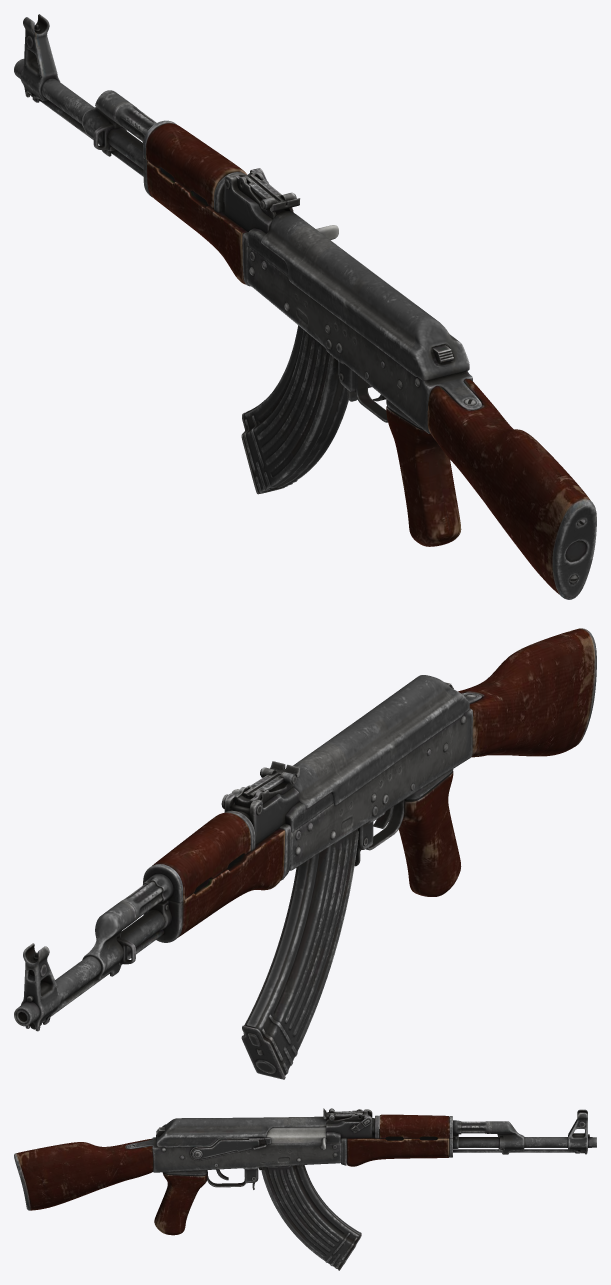
Rendered from ak-47_kalashnikov_c.glb.
3 views of the same model, one above another, from view 1: azimuth 30°, elevation 25°; view 2: azimuth 150°, elevation 25°; view 3: azimuth 270°, elevation 25° (orthographic). The views are drawn at different scales.
Parts seen in each view (by area): view 1: AK_0; view 2: AK_0; view 3: AK_0.
Boxes of the visible parts, bbox=[...] form: AK_0: bbox=[14, 14, 596, 599]; AK_0: bbox=[14, 628, 596, 1079]; AK_0: bbox=[14, 1108, 596, 1270].
Size of the model in its own units: 0.7051 by 2.6 by 8.79.
1 material, 1 textured.
